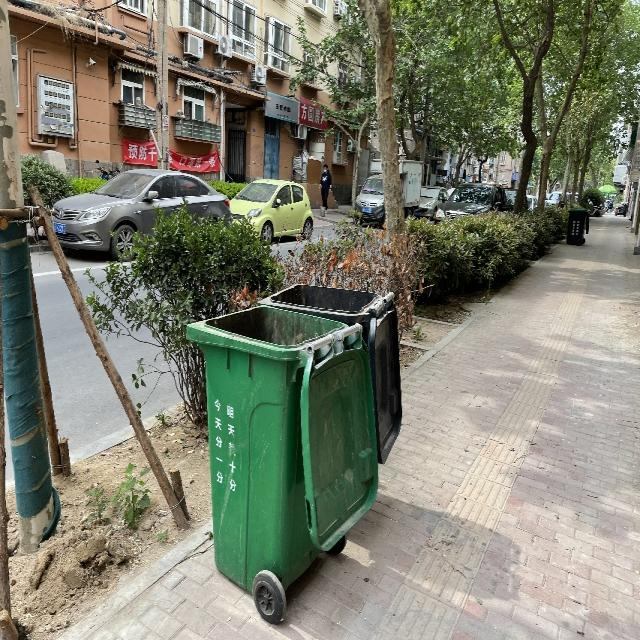garbage_bin: (185, 303, 375, 597), (566, 208, 584, 245)
